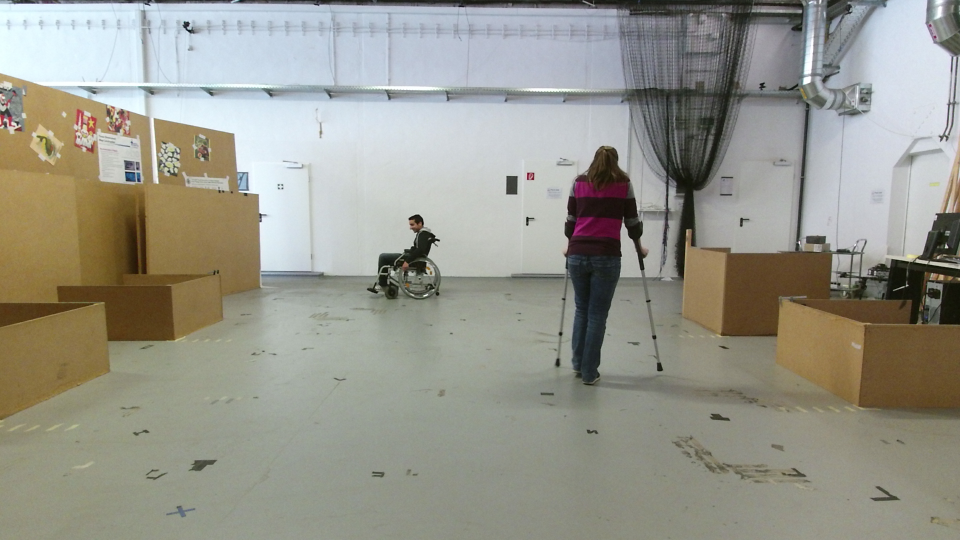crutches: (546, 141, 666, 386)
wheelchair: (364, 211, 449, 300)
